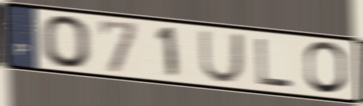1: (155, 25, 182, 79)
7: (96, 17, 140, 76)
L: (254, 36, 295, 90)
O: (39, 13, 94, 70), (303, 40, 349, 97)
U: (197, 29, 246, 85)
